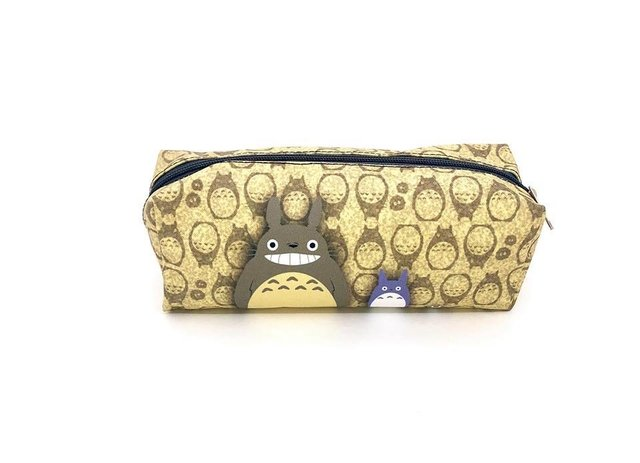Totoro: (230, 192, 354, 312)
